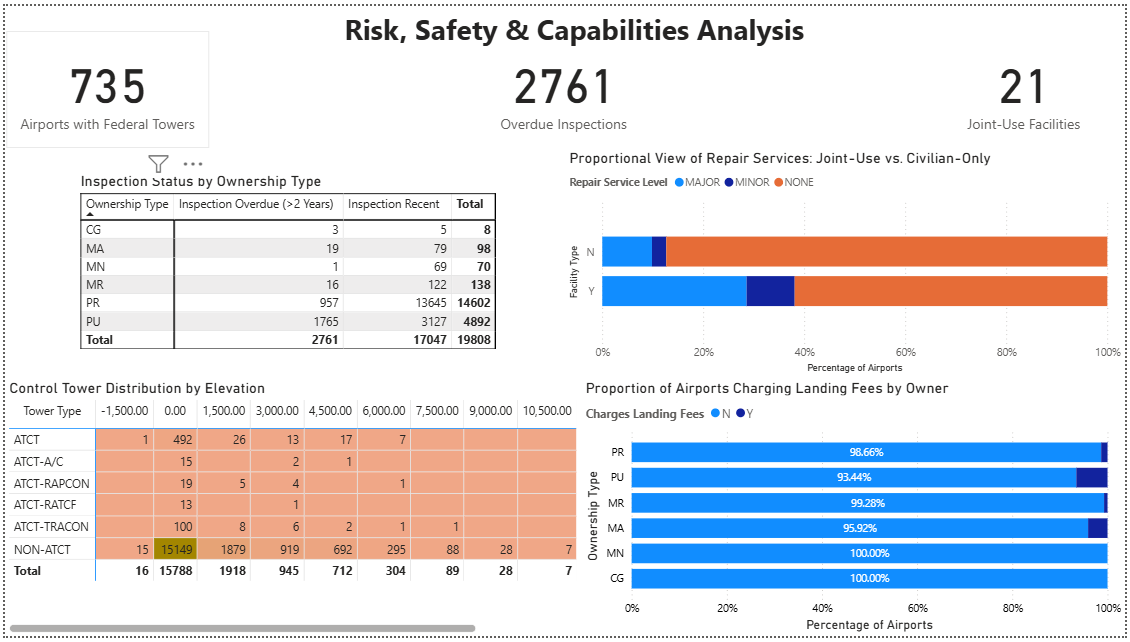

The dashboard page shown, as its layout file describes it:
{"tool":"powerbi","page":{"name":"Page 3","canvas":[1280,720],"ordinal":2},"visuals":[{"type":"pivotTable","title":"Inspection Status by Ownership Type","fields":{"Rows":["aviation_facilities_ready.OWNERSHIP_TYPE_CODE"],"Columns":["aviation_facilities_ready.Inspection Status"],"Values":["Count(aviation_facilities_ready.ARPT_ID)"]},"box":[81.7,190,491.7,208.3],"z":0},{"type":"pivotTable","title":"Control Tower Distribution by Elevation","fields":{"Rows":["aviation_facilities_ready.TWR_TYPE_CODE"],"Columns":["aviation_facilities_ready.ELEV (bins)"],"Values":["Count(aviation_facilities_ready.ARPT_ID)"]},"box":[0,425,658,295],"z":1000},{"type":"hundredPercentStackedBarChart","title":"Proportion of Airports Charging Landing Fees by Owner","fields":{"Category":["aviation_facilities_ready.OWNERSHIP_TYPE_CODE"],"Y":["Count(aviation_facilities_ready.ARPT_ID)"],"Series":["aviation_facilities_ready.LNDG_FEE_FLAG"]},"box":[658.3,425,621.7,295],"z":2000},{"type":"hundredPercentStackedBarChart","title":"Proportional View of Repair Services: Joint-Use vs. Civilian-Only","fields":{"Category":["aviation_facilities_ready.JOINT_USE_FLAG"],"Y":["Count(aviation_facilities_ready.ARPT_ID)"],"Series":["aviation_facilities_ready.AIRFRAME_REPAIR_SER_CODE"]},"box":[640,163.3,640,261.7],"z":3000},{"type":"card","fields":{"Values":["Count(aviation_facilities_ready.ARPT_ID)"]},"box":[523.3,28.3,231.7,135],"z":4000},{"type":"card","fields":{"Values":["Count(aviation_facilities_ready.ARPT_ID)"]},"box":[1048.3,28.3,231.7,135],"z":5000},{"type":"card","fields":{"Values":["Count(aviation_facilities_ready.ARPT_ID)"]},"box":[1.7,28.3,231.7,135],"z":6000},{"type":"textbox","box":[383.3,0,550,56.7],"z":6001}]}

Visuals, with their boxes in screenshot pixels (x1, y1, x2, y2), scaled from the page's 1280x720 canvas onto the 1130x642 screenshot:
"Inspection Status by Ownership Type" pivotTable: l=72, t=169, r=506, b=355
"Control Tower Distribution by Elevation" pivotTable: l=0, t=379, r=581, b=641
"Proportion of Airports Charging Landing Fees by Owner" hundredPercentStackedBarChart: l=581, t=379, r=1129, b=641
"Proportional View of Repair Services: Joint-Use vs. Civilian-Only" hundredPercentStackedBarChart: l=565, t=146, r=1129, b=379
card - Count(aviation_facilities_ready.ARPT_ID): l=462, t=25, r=667, b=146
card - Count(aviation_facilities_ready.ARPT_ID): l=925, t=25, r=1129, b=146
card - Count(aviation_facilities_ready.ARPT_ID): l=2, t=25, r=206, b=146
textbox: l=338, t=0, r=824, b=51
